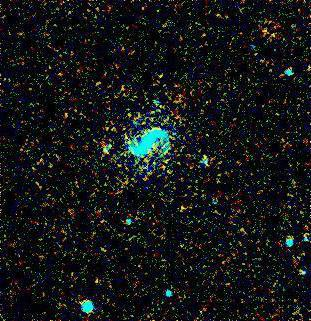star: (290, 222, 311, 252)
